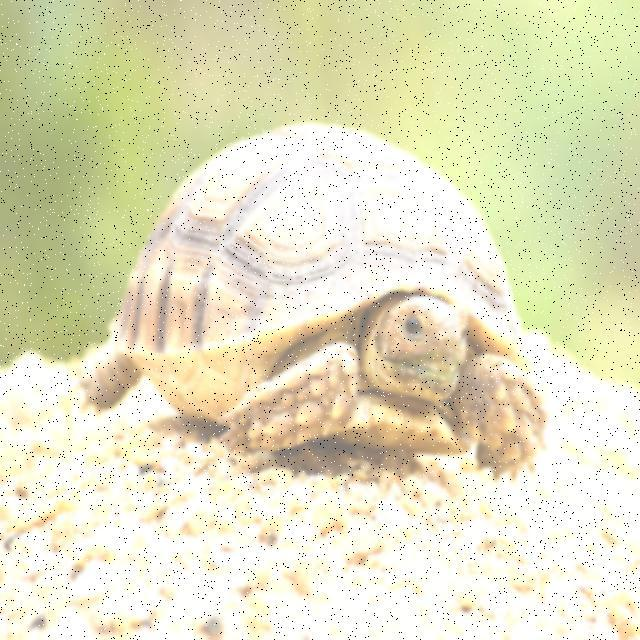tortoise: (67, 100, 556, 484)
